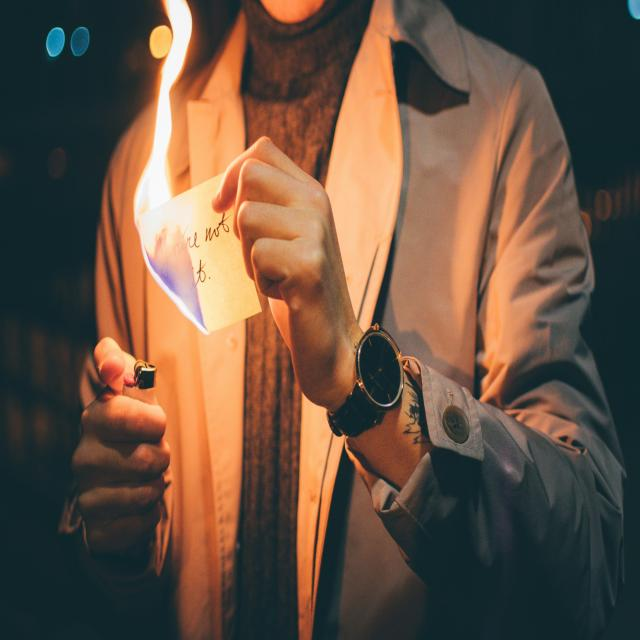fire: (134, 0, 205, 338)
